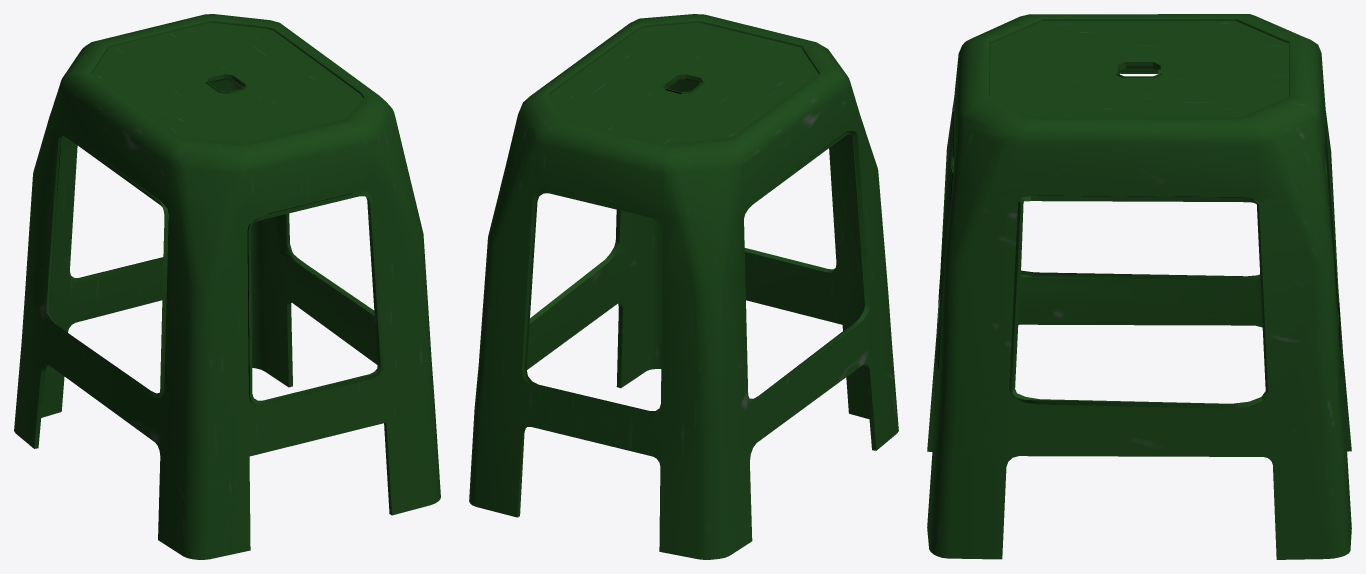
Rendered from plastic_stool.glb.
3 views of the same model, side by side, from view 1: azimuth 30°, elevation 25°; view 2: azimuth 150°, elevation 25°; view 3: azimuth 270°, elevation 25° (orthographic). The views are drawn at different scales.
Parts seen in each view (by area): view 1: Plane_2; view 2: Plane_2; view 3: Plane_2.
Part boxes in pixels (<box>): Plane_2: <box>14,14,440,559</box>; Plane_2: <box>469,14,898,559</box>; Plane_2: <box>927,14,1351,559</box>.
Size of the model in its own units: 1.21 by 1.71 by 1.55.
1 material, 1 textured.
